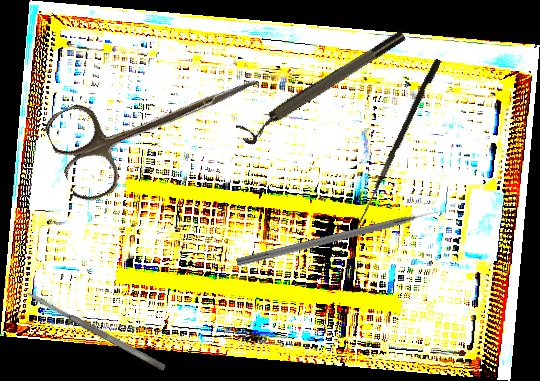Fixation Ring: (235, 27, 412, 148)
Hook Surgical: (356, 57, 442, 231), (235, 207, 444, 269)
Iris Scissors: (40, 33, 274, 208)
Spatula Surgical: (25, 288, 167, 373)
